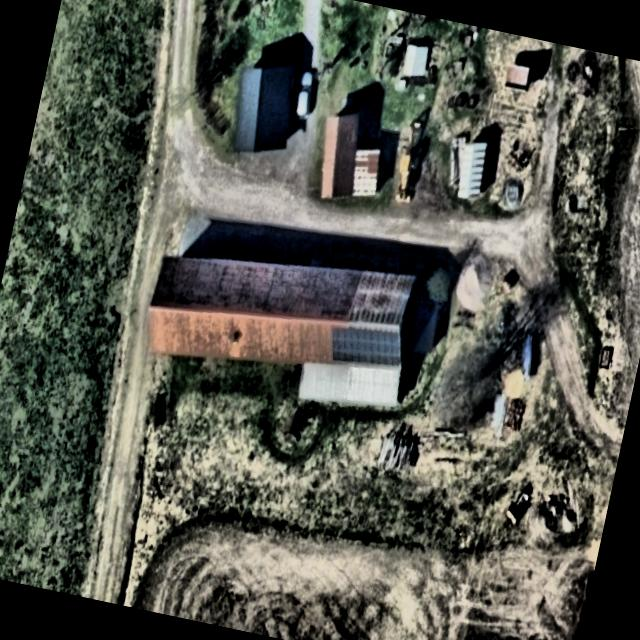roof_pv: (322, 314, 409, 376)
